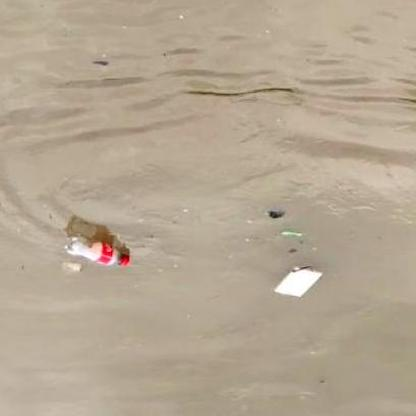foam: (275, 266, 323, 299)
plastic bottle: (65, 235, 130, 266)
